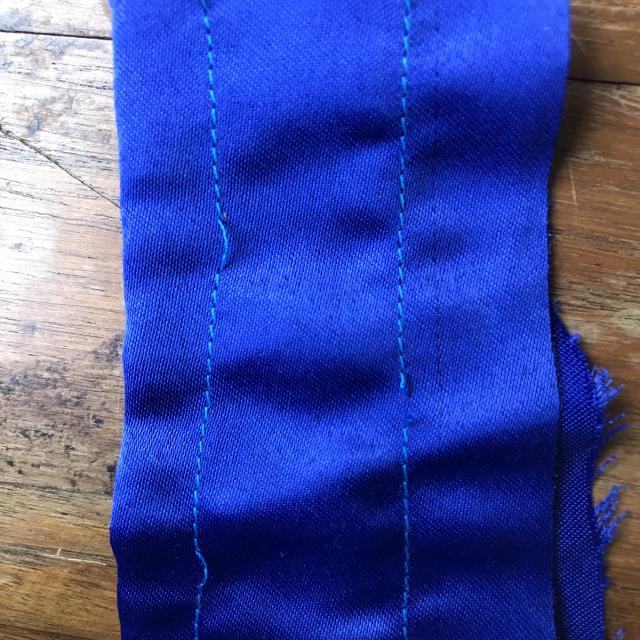broken: (379, 343, 431, 439)
skip: (200, 194, 248, 298), (174, 526, 236, 596)
